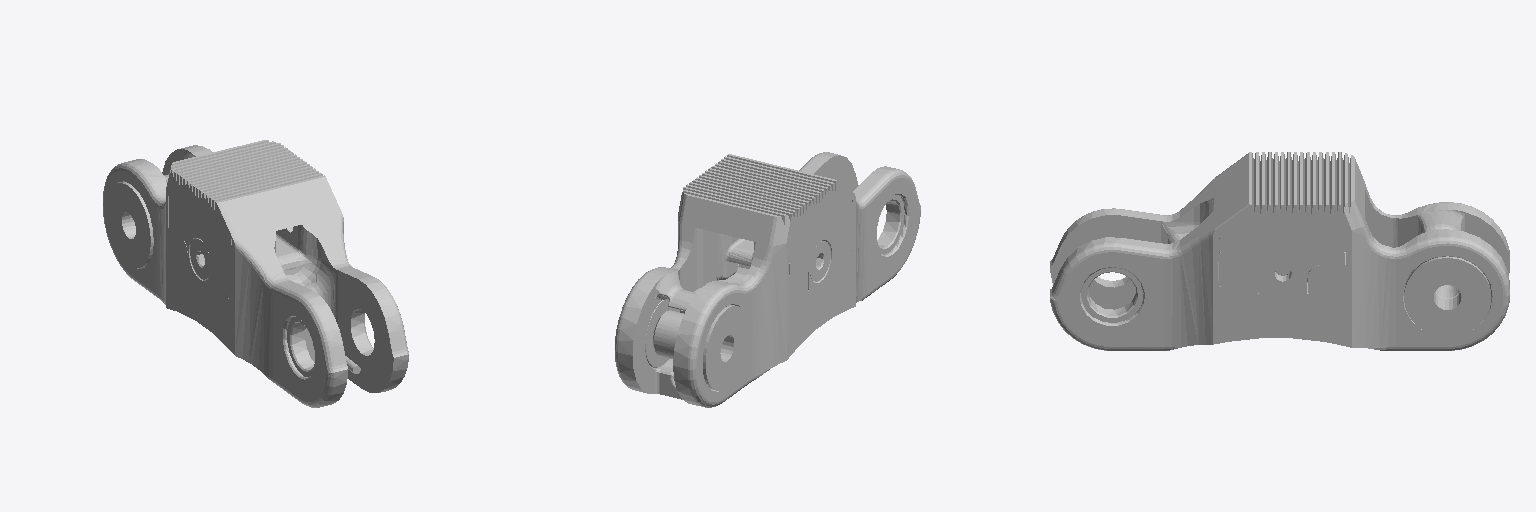
The model's file is rf_proximal.obj.
3 views of the same model, side by side, from view 1: azimuth 30°, elevation 25°; view 2: azimuth 150°, elevation 25°; view 3: azimuth 270°, elevation 25° (orthographic).
Visible parts, largest first — view 1: ring_proximal_base_SIH_right.068, ring_proximal_pad_SIH_right.069, ring_proximal_spring_indication_SIH_right.070; view 2: ring_proximal_base_SIH_right.068, ring_proximal_pad_SIH_right.069, ring_proximal_spring_indication_SIH_right.070; view 3: ring_proximal_base_SIH_right.068, ring_proximal_pad_SIH_right.069.
Part boxes in pixels (bbox=[...]): ring_proximal_base_SIH_right.068: bbox=[103, 145, 408, 407]; ring_proximal_pad_SIH_right.069: bbox=[166, 140, 341, 287]; ring_proximal_spring_indication_SIH_right.070: bbox=[190, 238, 360, 373]; ring_proximal_base_SIH_right.068: bbox=[615, 152, 920, 407]; ring_proximal_pad_SIH_right.069: bbox=[678, 154, 854, 289]; ring_proximal_spring_indication_SIH_right.070: bbox=[810, 241, 830, 281]; ring_proximal_base_SIH_right.068: bbox=[1050, 178, 1509, 350]; ring_proximal_pad_SIH_right.069: bbox=[1214, 152, 1364, 293].
Bounding box in the file's own units: 18 × 24.5 × 65.99.